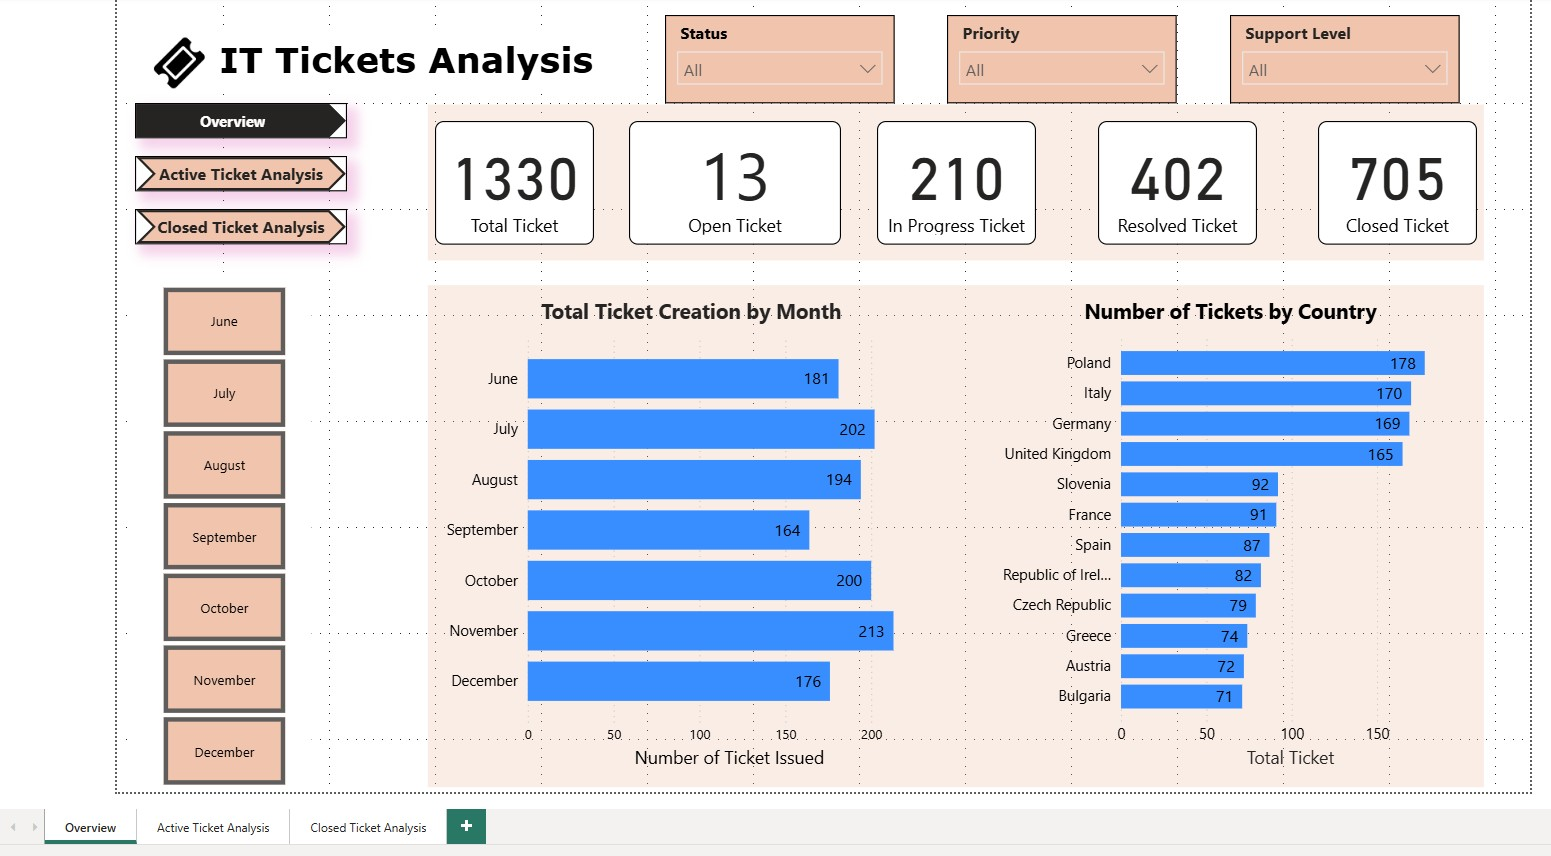

What the dashboard file says about the page in this screenshot:
{"tool":"powerbi","page":{"name":"Overview","canvas":[1280,720],"ordinal":0},"visuals":[{"type":"textbox","box":[88,32,368,56],"z":0},{"type":"basicShape","box":[272,96,976,144],"z":1000},{"type":"basicShape","box":[272,256,976,464],"z":2000},{"type":"clusteredBarChart","title":"Number of Tickets by Country","fields":{"Category":["Data.Country"],"Y":["All Measures.Total Ticket"]},"box":[784,272,448,432],"z":3000},{"type":"image","box":[24,32,64,56],"z":4000},{"type":"slicer","fields":{"Values":["Data.Status"]},"box":[496,16,208,80],"z":5000},{"type":"slicer","fields":{"Values":["Data.Priority"]},"box":[752,16,208,80],"z":6000},{"type":"slicer","fields":{"Values":["Data.Support Level"]},"box":[1008,16,208,80],"z":7000},{"type":"card","fields":{"Values":["All Measures.Total Ticket"]},"box":[288,112,144,112],"z":8000},{"type":"card","fields":{"Values":["All Measures.Open Ticket"]},"box":[464,112,192,112],"z":9000},{"type":"card","fields":{"Values":["All Measures.In Progress Ticket"]},"box":[688,112,144,112],"z":10000},{"type":"card","fields":{"Values":["All Measures.Resolved Ticket"]},"box":[888,112,144,112],"z":11000},{"type":"card","fields":{"Values":["All Measures.Closed Ticket"]},"box":[1088,112,144,112],"z":12000},{"type":"barChart","title":"Total Ticket Creation by Month","fields":{"Y":["All Measures.Total Ticket"],"Category":["Data.Month Name Ticket Created"]},"box":[288,272,464,432],"z":13000},{"type":"pageNavigator","box":[16,96,192,32],"z":14000},{"type":"pageNavigator","box":[16,144,192,32],"z":15000},{"type":"pageNavigator","box":[16,192,192,32],"z":16000},{"type":"slicer","fields":{"Values":["Data.Month Name Ticket Created"]},"box":[16,256,160,464],"z":17000}]}

Visuals, with their boxes on the page's 1280x720 design canvas (x1, y1, x2, y2). These are canvas units, not pixel positions in the 1551x856 screenshot, which may show the page scaled, cropped or inside an application window:
textbox: pyautogui.locateOnScreen(88, 32, 456, 88)
basicShape: pyautogui.locateOnScreen(272, 96, 1248, 240)
basicShape: pyautogui.locateOnScreen(272, 256, 1248, 720)
"Number of Tickets by Country" clusteredBarChart: pyautogui.locateOnScreen(784, 272, 1232, 704)
image: pyautogui.locateOnScreen(24, 32, 88, 88)
slicer - Data.Status: pyautogui.locateOnScreen(496, 16, 704, 96)
slicer - Data.Priority: pyautogui.locateOnScreen(752, 16, 960, 96)
slicer - Data.Support Level: pyautogui.locateOnScreen(1008, 16, 1216, 96)
card - All Measures.Total Ticket: pyautogui.locateOnScreen(288, 112, 432, 224)
card - All Measures.Open Ticket: pyautogui.locateOnScreen(464, 112, 656, 224)
card - All Measures.In Progress Ticket: pyautogui.locateOnScreen(688, 112, 832, 224)
card - All Measures.Resolved Ticket: pyautogui.locateOnScreen(888, 112, 1032, 224)
card - All Measures.Closed Ticket: pyautogui.locateOnScreen(1088, 112, 1232, 224)
"Total Ticket Creation by Month" barChart: pyautogui.locateOnScreen(288, 272, 752, 704)
pageNavigator: pyautogui.locateOnScreen(16, 96, 208, 128)
pageNavigator: pyautogui.locateOnScreen(16, 144, 208, 176)
pageNavigator: pyautogui.locateOnScreen(16, 192, 208, 224)
slicer - Data.Month Name Ticket Created: pyautogui.locateOnScreen(16, 256, 176, 720)
